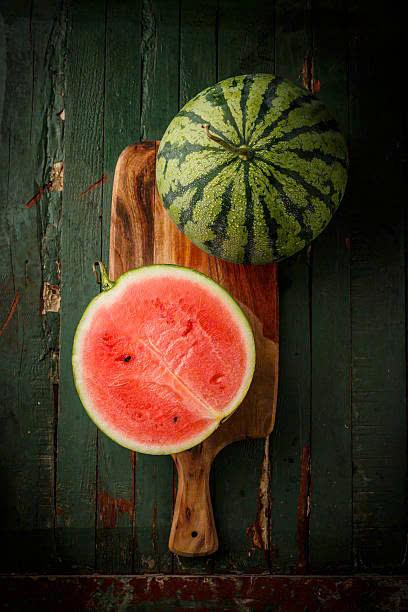watermelon: (151, 67, 356, 264), (71, 260, 255, 455)
